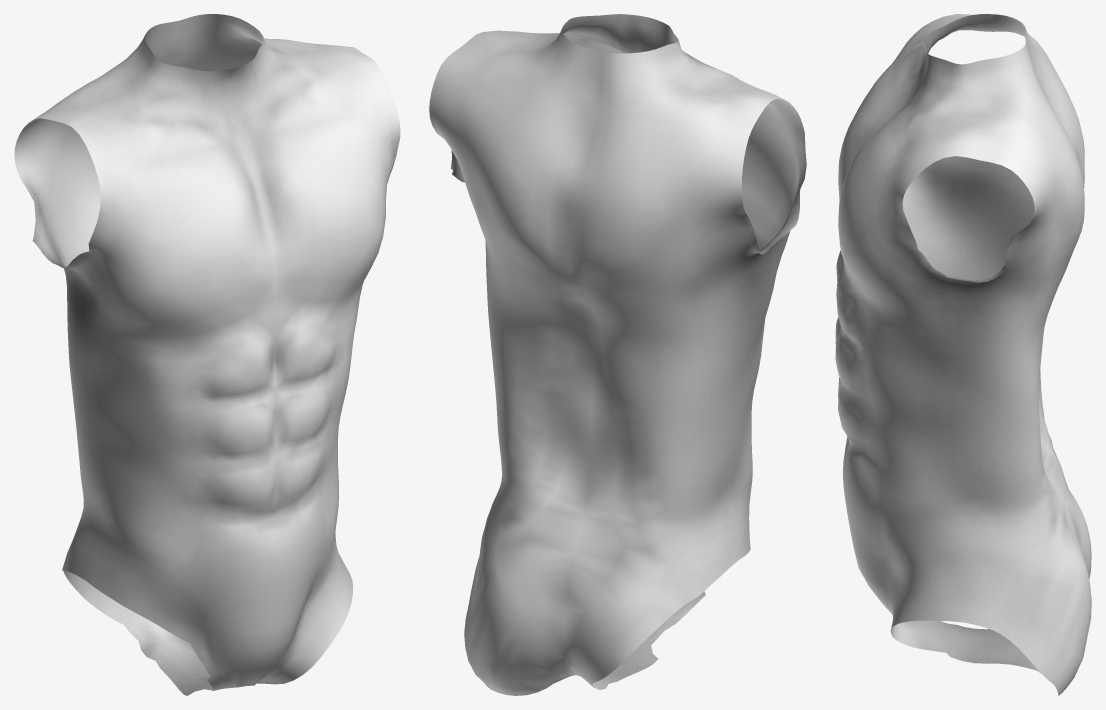
File: torso.obj
3 views of the same model, side by side, from view 1: azimuth 30°, elevation 25°; view 2: azimuth 150°, elevation 25°; view 3: azimuth 270°, elevation 25° (orthographic). The views are drawn at different scales.
Parts seen in each view (by area): view 1: Torso; view 2: Torso; view 3: Torso.
Boxes of the visible parts, left/top/right/bottom form: Torso: left=14, top=14, right=400, bottom=695; Torso: left=429, top=14, right=806, bottom=695; Torso: left=835, top=14, right=1091, bottom=695.
Bounding box in the file's own units: 0.0385 × 0.0756 × 0.0282.
Materials: 1 (1 with a texture image).
